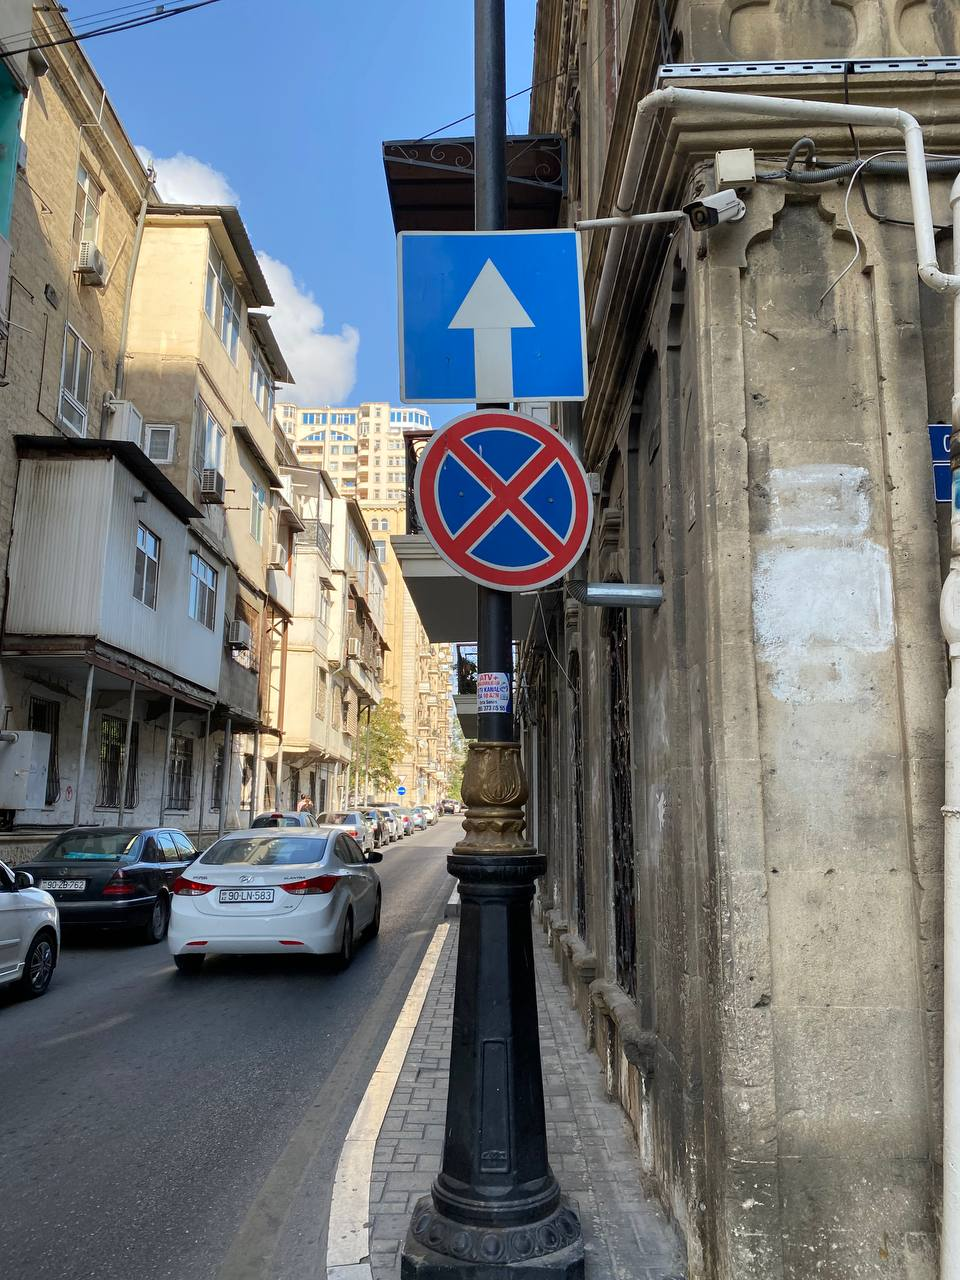No Parking: (413, 409, 594, 591)
